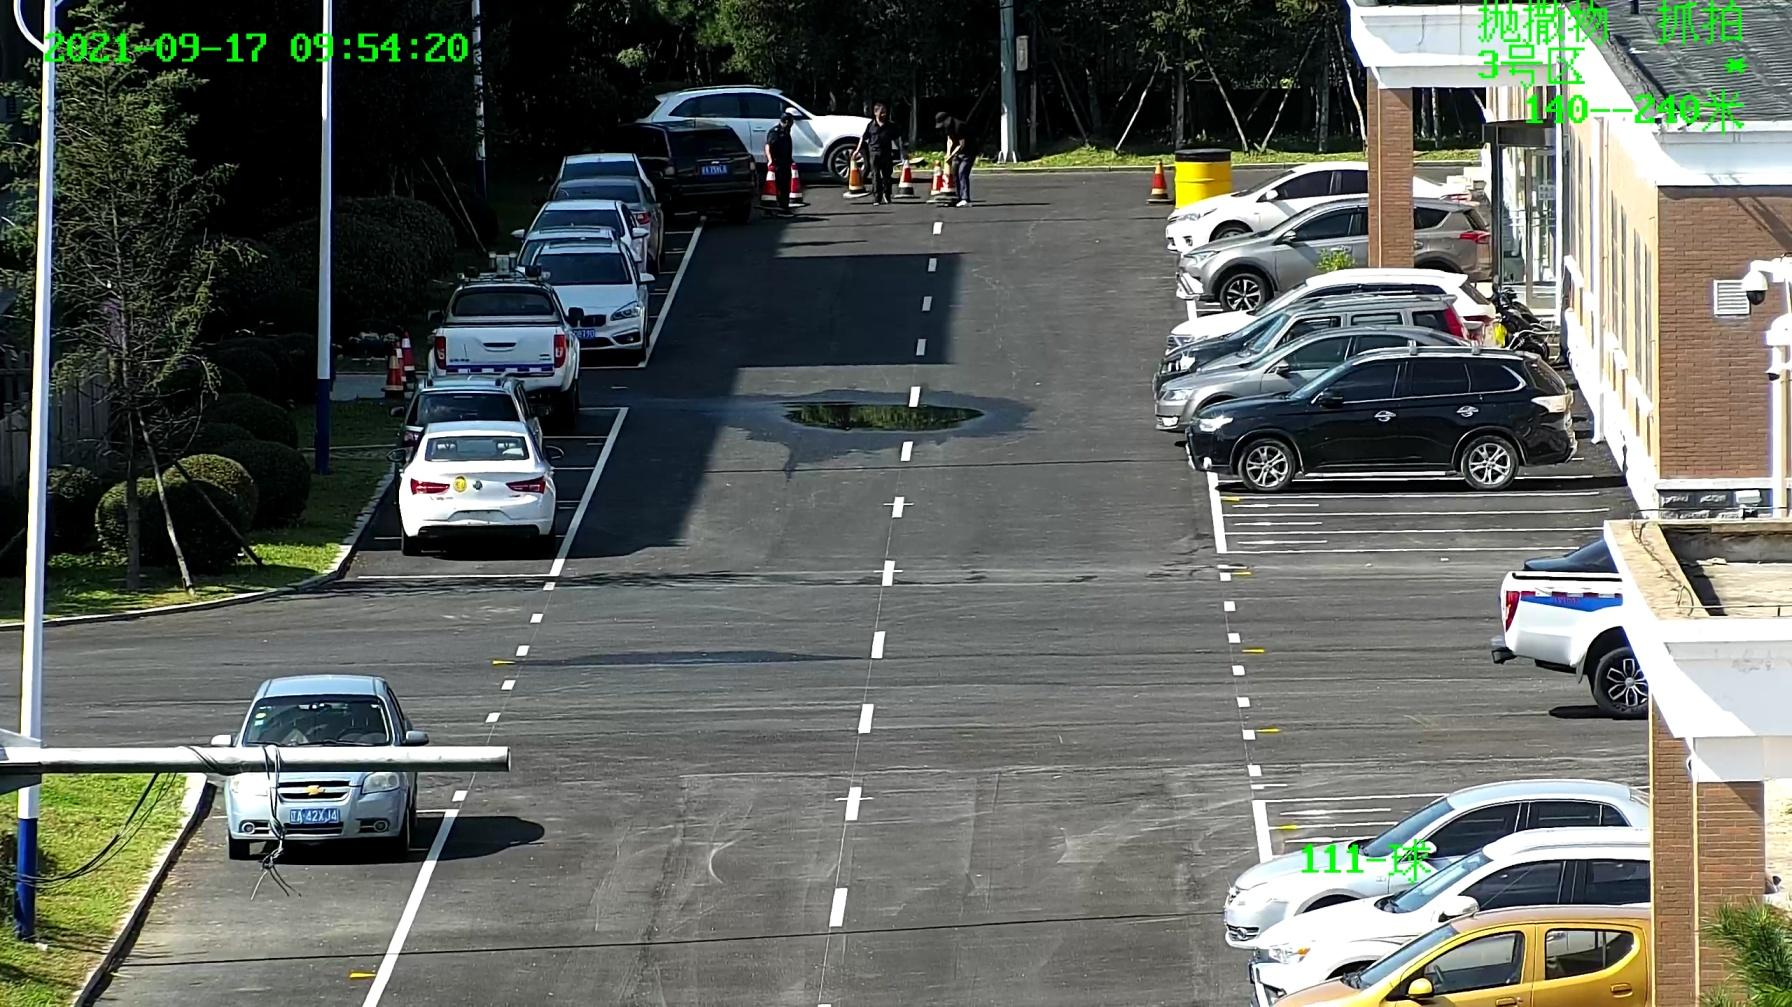cone_barrel: (382, 334, 409, 399), (393, 330, 415, 393), (1142, 158, 1172, 202), (754, 164, 782, 211), (842, 153, 868, 197), (786, 160, 807, 208), (892, 161, 918, 198), (927, 161, 943, 204), (940, 158, 958, 196)
